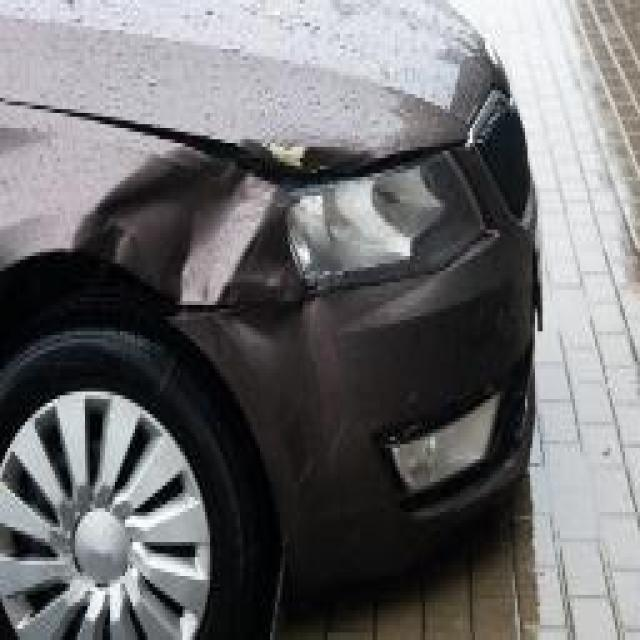Bumper: (186, 228, 544, 586)
Fender: (0, 103, 308, 337)
